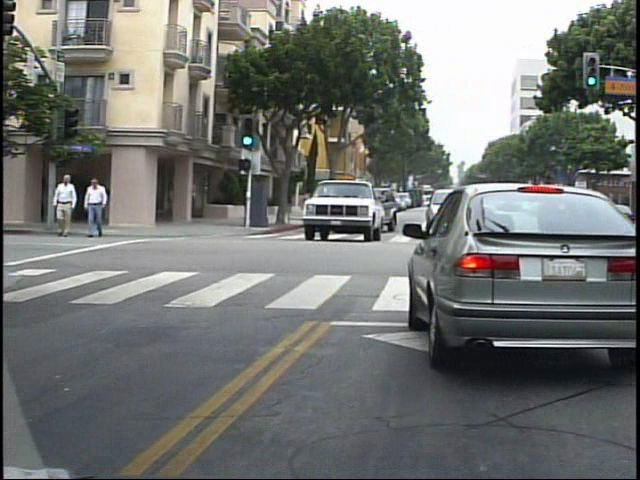person: (58, 170, 88, 241), (89, 174, 117, 241)
